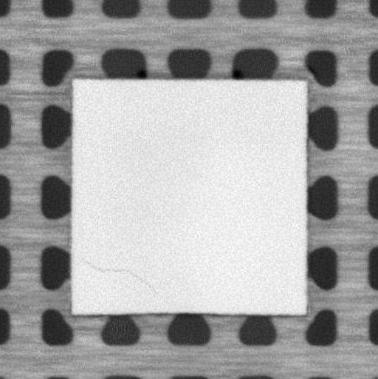DIE_CRACK: (87, 261, 157, 294)
